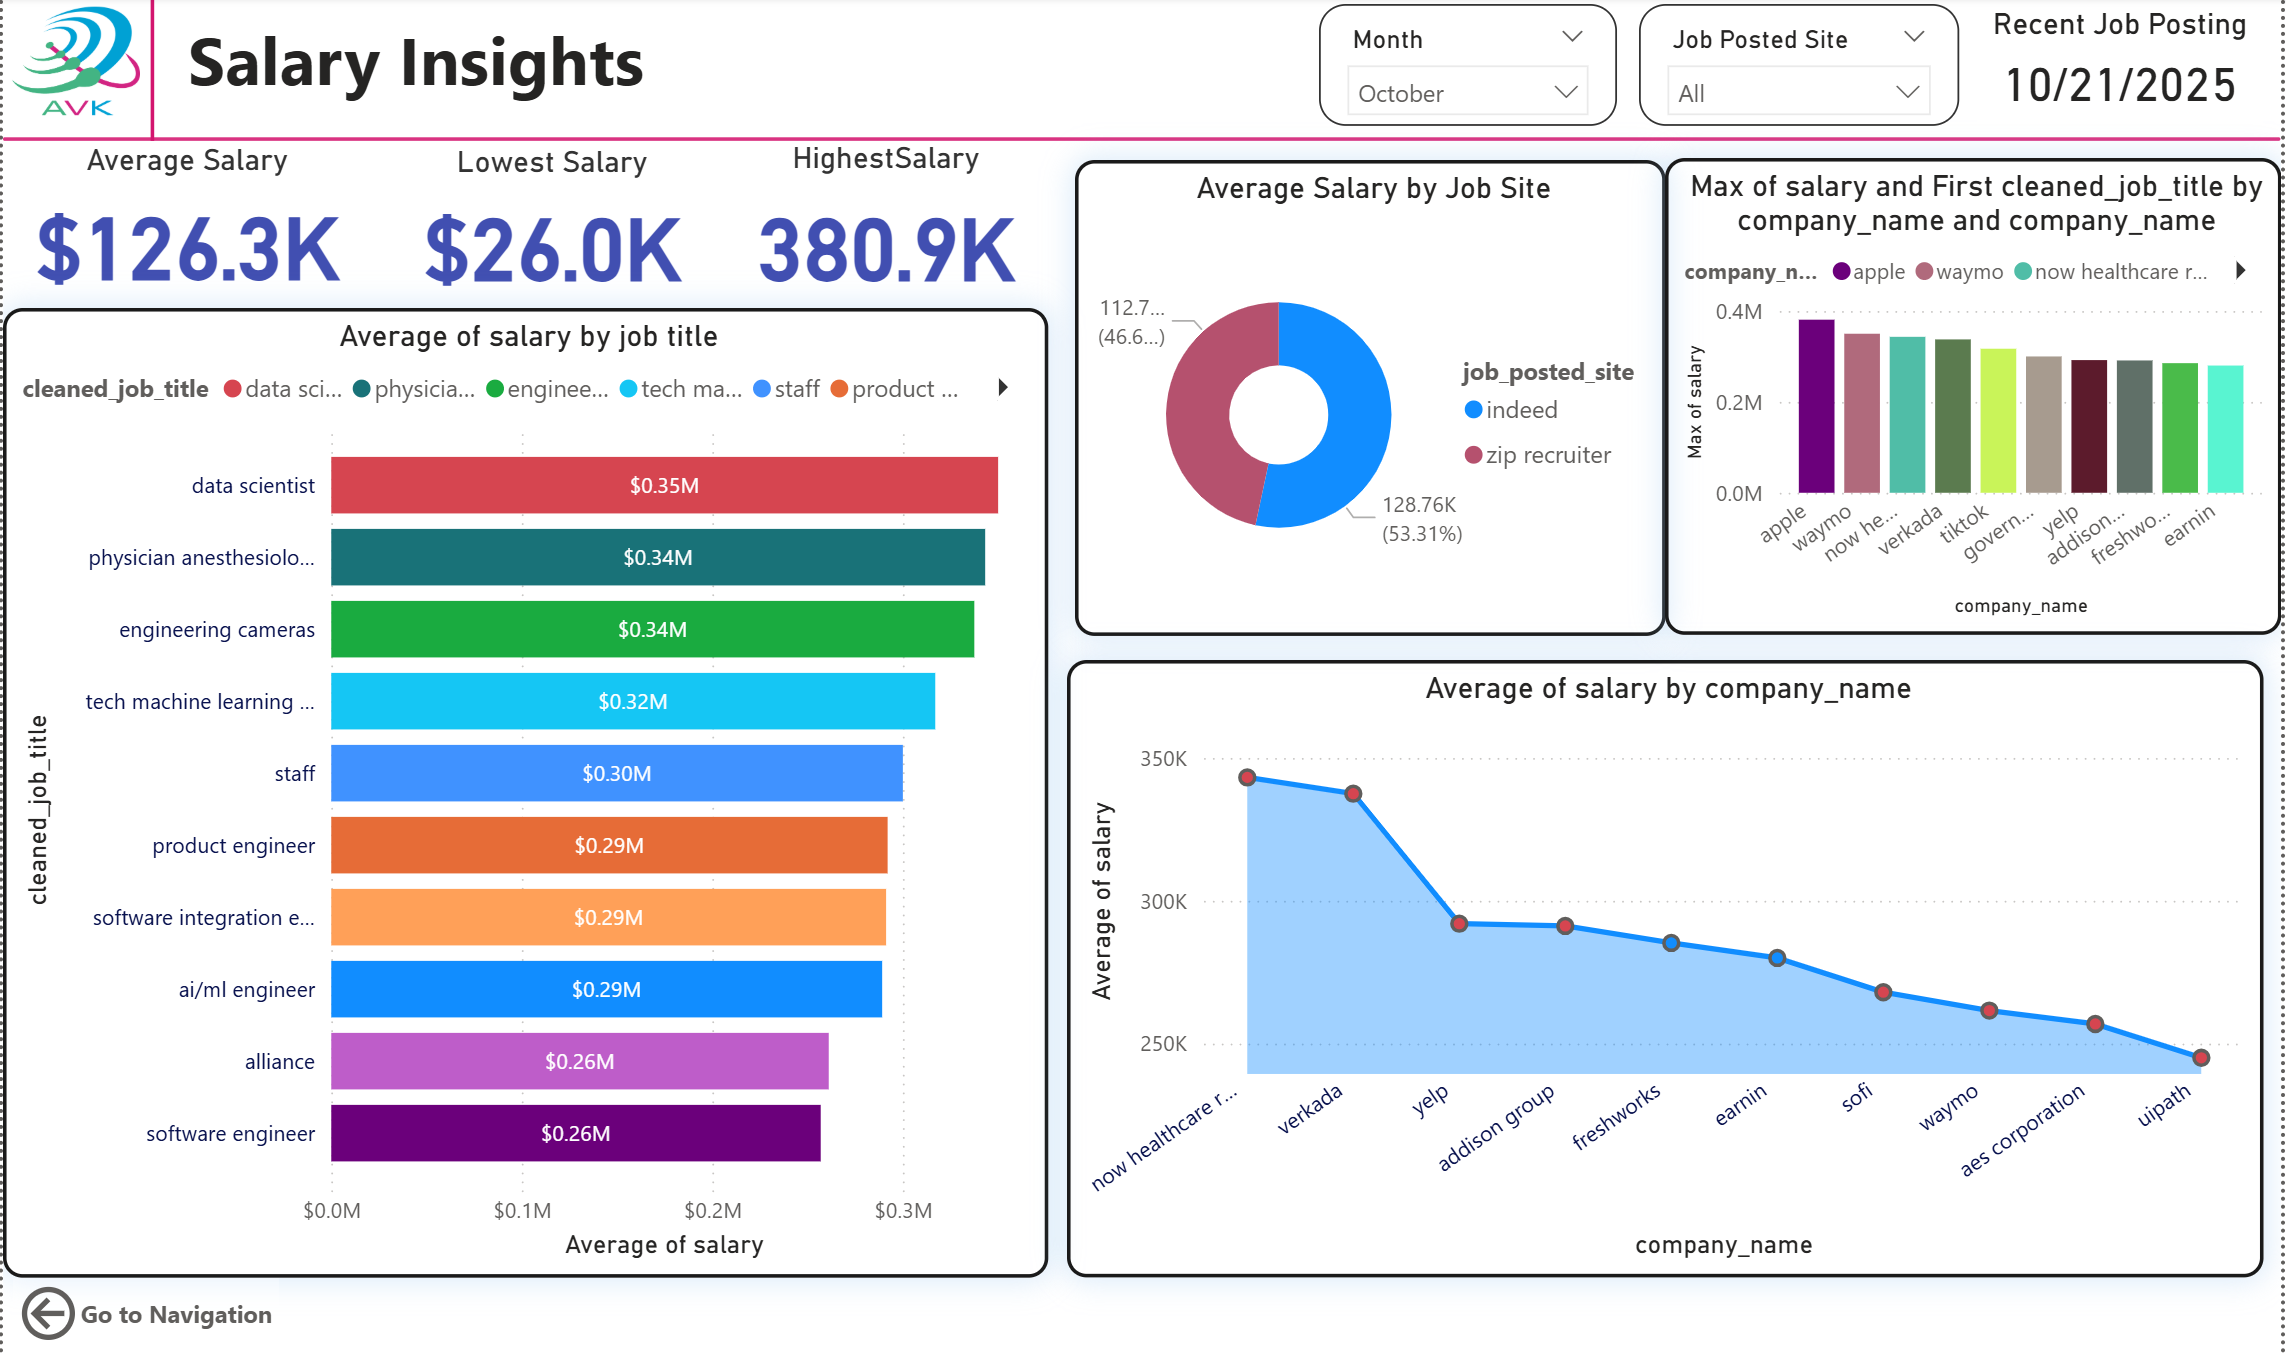

This screenshot's page, from the dashboard's own definition file:
{"tool":"powerbi","page":{"name":"Salary Insights","canvas":[1280,770],"ordinal":3},"visuals":[{"type":"shape","box":[0,70,1280,21.4],"z":0},{"type":"image","box":[0,0,81.9,73.4],"z":1000},{"type":"textbox","box":[98.6,4.3,421.4,62.9],"z":2000},{"type":"shape","box":[70,0,28.6,81.4],"z":3000},{"type":"card","title":"Average Salary","fields":{"Values":["job_data.Aaverage Salary"]},"box":[0,82.3,207.2,91.9],"z":4000},{"type":"card","title":"Lowest Salary","fields":{"Values":["Table.Lowest Salary"]},"box":[211.3,83.7,194.9,90.6],"z":5000},{"type":"card","title":"Recent Job Posting","fields":{"Values":["job_data.Recent job date"]},"box":[1120.1,4.9,160.2,66],"z":6000},{"type":"barChart","title":"Average of salary by job title","fields":{"Y":["Avg(job_data.salary)"],"Series":["job_data.job_posted_site"],"Category":["job_data.cleaned_job_title"]},"box":[0,175.6,587.3,544.8],"z":7000},{"type":"donutChart","title":"Average Salary by Job Site","fields":{"Category":["job_data.job_posted_site"],"Y":["Avg(job_data.salary)"]},"box":[602.4,91.9,332.1,267.6],"z":8000},{"type":"slicer","fields":{"Values":["job_data.job_posted_site"]},"box":[919.6,4.9,179.8,68.5],"z":9000},{"type":"slicer","fields":{"Values":["job_data.job_posted_date.Variation.Date Hierarchy.Month","job_data.job_posted_date.Variation.Date Hierarchy.Day"]},"box":[740.1,4.7,167.6,68.7],"z":10000},{"type":"card","title":"HighestSalary","fields":{"Values":["job_data.Highest Salary"]},"box":[406.2,81,181.1,94.7],"z":11000},{"type":"areaChart","fields":{"Category":["job_data.company_name"],"Y":["Avg(job_data.salary)"]},"box":[598.3,373.2,672.4,347.2],"z":12000},{"type":"keyDriversVisual","fields":{"Target":["job_data.salary"],"ExplainBy":["job_data.job_type"]},"box":[940,91.9,330.7,267.6],"z":13000},{"type":"actionButton","box":[5.5,721,149.7,39.8],"z":13001}]}

Visuals, with their boxes in screenshot pixels (x1, y1, x2, y2), scaled from the page's 1280x770 canvas onto the 2286x1355 screenshot:
shape: 0/123/2285/161
image: 0/0/146/129
textbox: 176/8/929/118
shape: 125/0/176/143
"Average Salary" card: 0/145/370/307
"Lowest Salary" card: 377/147/725/307
"Recent Job Posting" card: 2000/9/2285/125
"Average of salary by job title" barChart: 0/309/1049/1268
"Average Salary by Job Site" donutChart: 1076/162/1669/633
slicer - job_data.job_posted_site: 1642/9/1963/129
slicer - job_data.job_posted_date.Variation.Date Hierarchy.Month x job_data.job_posted_date.Variation.Date Hierarchy.Day: 1322/8/1621/129
"HighestSalary" card: 725/143/1049/309
areaChart - job_data.company_name x Avg(job_data.salary): 1069/657/2269/1268
keyDriversVisual - job_data.salary x job_data.job_type: 1679/162/2269/633
actionButton: 10/1269/277/1339
